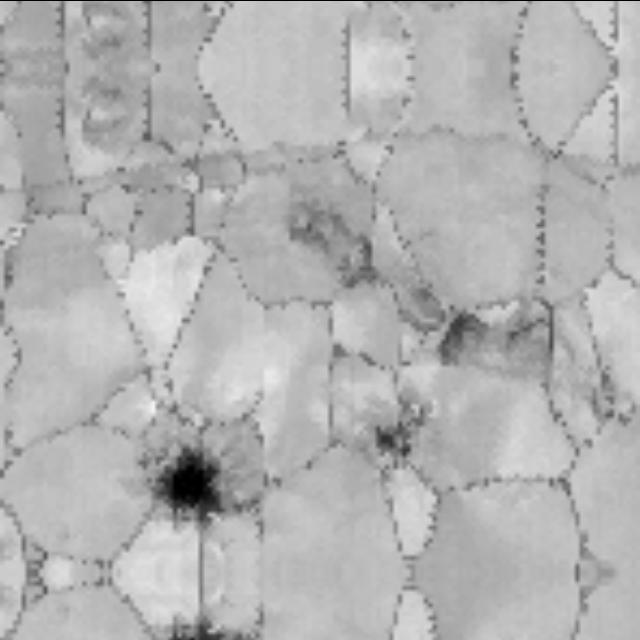good_void: (281, 190, 388, 288), (153, 439, 241, 540), (365, 387, 448, 469), (69, 69, 139, 158), (492, 297, 551, 378), (69, 0, 139, 65), (426, 300, 482, 375), (153, 606, 241, 640)
